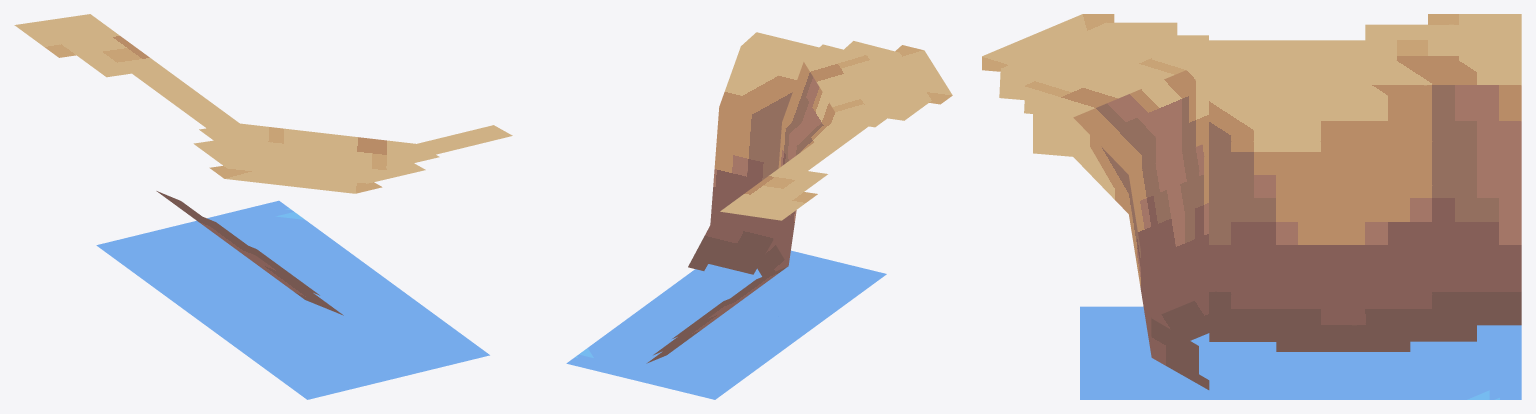
The picture shows the model from 3 angles, left to right: view 1: azimuth 30°, elevation 25°; view 2: azimuth 150°, elevation 25°; view 3: azimuth 270°, elevation 25°; orthographic projection. The views are drawn at different scales.
Bounding box in the file's own units: 0.7236 × 0.627 × 1.22.
Materials: 2 (2 with a texture image).
